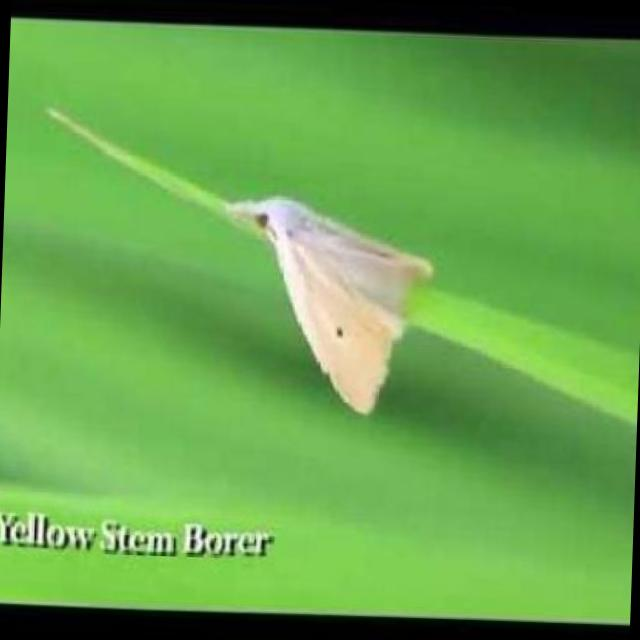stem-borer: (211, 191, 436, 418)
